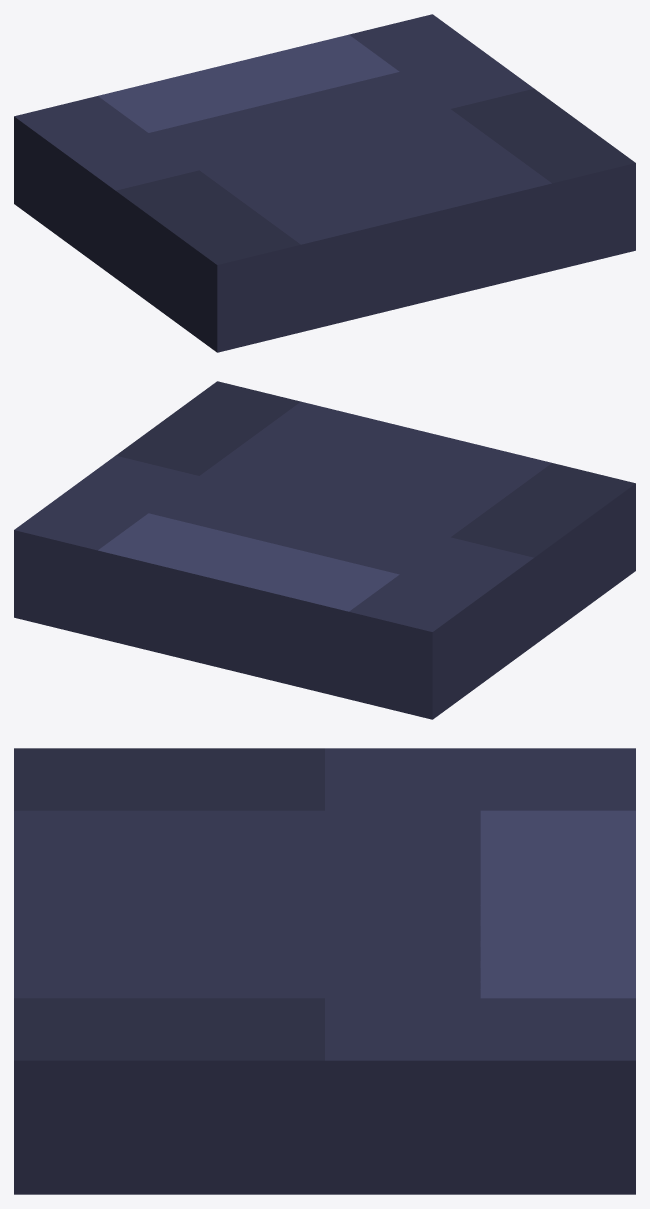
The model's file is L_Leg_PhantomArmor.glb.
The picture shows the model from 3 angles, top to bottom: view 1: azimuth 30°, elevation 25°; view 2: azimuth 150°, elevation 25°; view 3: azimuth 270°, elevation 25°; orthographic projection. The views are drawn at different scales.
Parts seen in each view (by area): view 1: L_Leg_PhantomArmor.001; view 2: L_Leg_PhantomArmor.001; view 3: L_Leg_PhantomArmor.001.
Boxes of the visible parts, bbox=[...] form: L_Leg_PhantomArmor.001: bbox=[14, 14, 635, 352]; L_Leg_PhantomArmor.001: bbox=[14, 381, 635, 719]; L_Leg_PhantomArmor.001: bbox=[14, 748, 635, 1194].
Bounding box in the file's own units: 31.25 × 6.25 × 26.29.
Materials: 1 (1 with a texture image).
